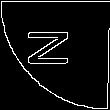N_E: (29, 34, 81, 76)
